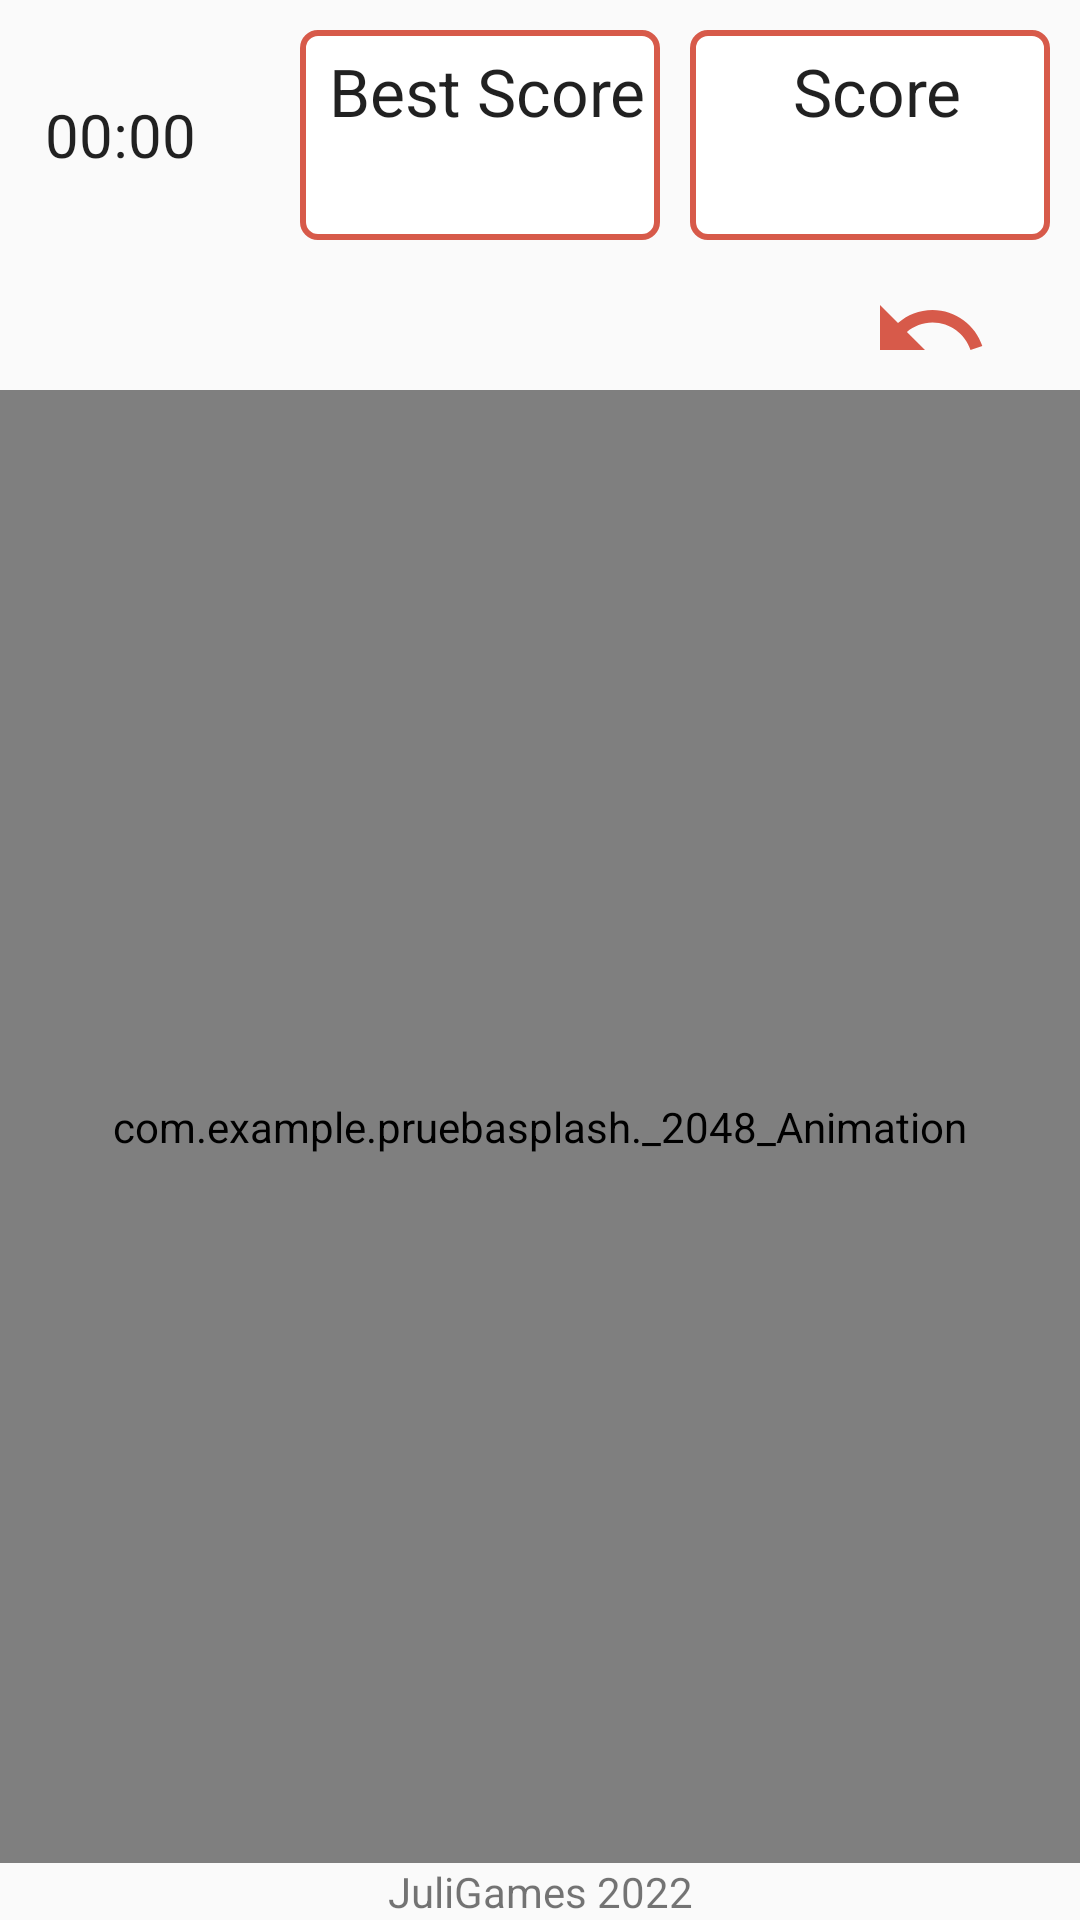

Named icons in this screenshot (1080×1920) and their centers, [x,y]:
undo: [931,327]
